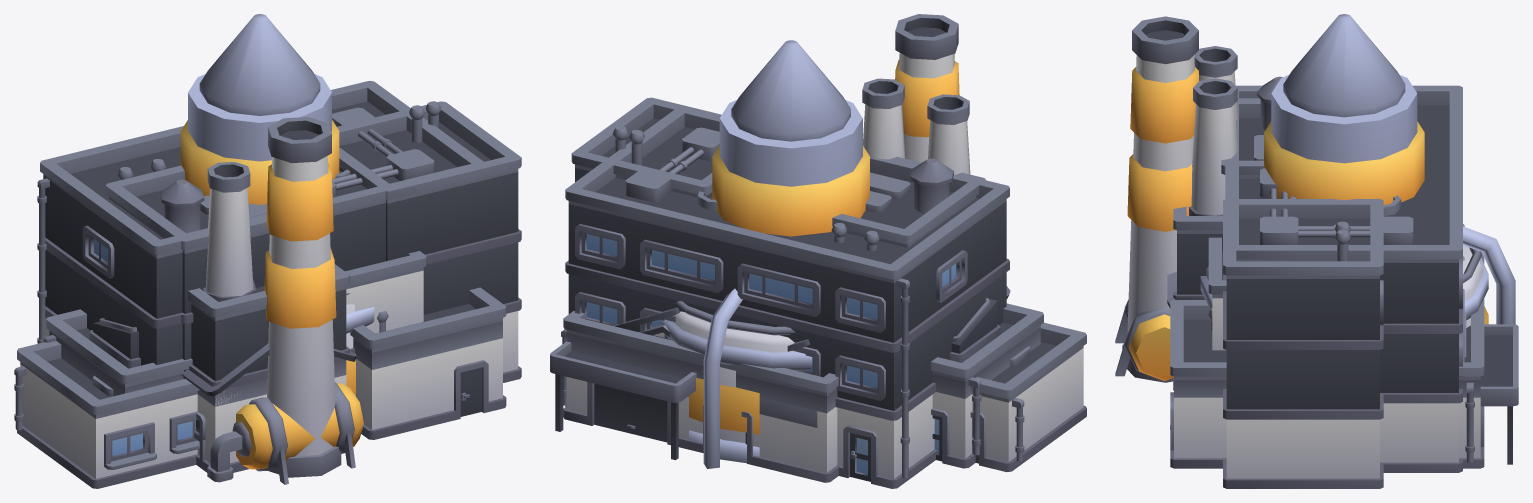
The model's file is industrial.glb.
3 renders of one model, left to right at view 1: azimuth 30°, elevation 25°; view 2: azimuth 150°, elevation 25°; view 3: azimuth 270°, elevation 25°, orthographic.
Parts seen in each view (by area): view 1: building-l, building-a, building-r, building-c, building-e, chimney-large, water-tower, building-g, building-i, detail-tank-large; view 2: building-a, building-c, building-l, building-r, chimney-large, detail-tank-large, water-tower, building-e, building-g; view 3: building-r, building-a, building-c, building-l, chimney-large, building-e, water-tower, detail-tank-large, building-g.
Boxes of the visible parts, <box> form: building-l: <box>14,117,426,488</box>; building-a: <box>37,81,487,365</box>; building-r: <box>43,101,521,396</box>; building-c: <box>207,167,506,484</box>; building-e: <box>188,162,349,472</box>; chimney-large: <box>180,74,339,204</box>; water-tower: <box>199,14,320,115</box>; building-g: <box>105,165,269,378</box>; building-i: <box>181,343,356,465</box>; detail-tank-large: <box>346,293,374,395</box>; building-a: <box>565,106,1009,488</box>; building-c: <box>550,191,840,482</box>; building-l: <box>688,14,1086,472</box>; building-r: <box>571,97,1043,468</box>; chimney-large: <box>712,100,869,236</box>; detail-tank-large: <box>661,288,812,468</box>; water-tower: <box>731,40,850,141</box>; building-e: <box>862,78,970,175</box>; building-g: <box>612,156,985,351</box>; building-r: <box>1223,199,1466,488</box>; building-a: <box>1225,76,1462,472</box>; building-c: <box>1115,195,1518,468</box>; building-l: <box>1122,16,1226,382</box>; chimney-large: <box>1264,74,1424,204</box>; building-e: <box>1173,46,1237,390</box>; water-tower: <box>1283,14,1405,117</box>; detail-tank-large: <box>1200,226,1515,327</box>; building-g: <box>1221,98,1464,362</box>.
Bounding box in the file's own units: 2.71 × 2.14 × 2.11.
Materials: 2 (2 with a texture image).
